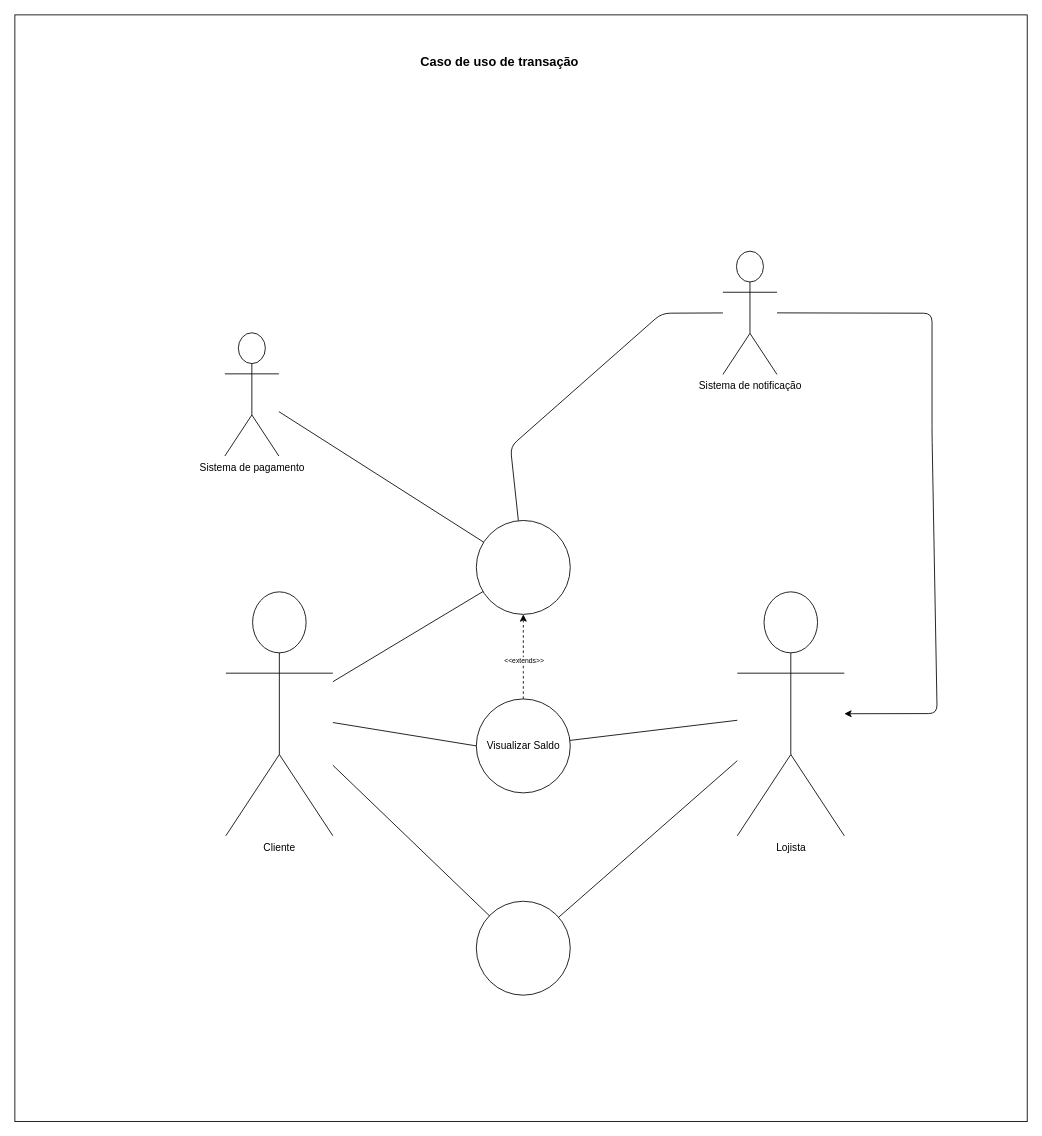
Image size: 1042x1136. Some labels were removed from this diagram. The centre of each missing label's shape, as x and y in pixels:
Efetuar Transferência: (x=522, y=567)
Receber Transferência: (x=522, y=947)
